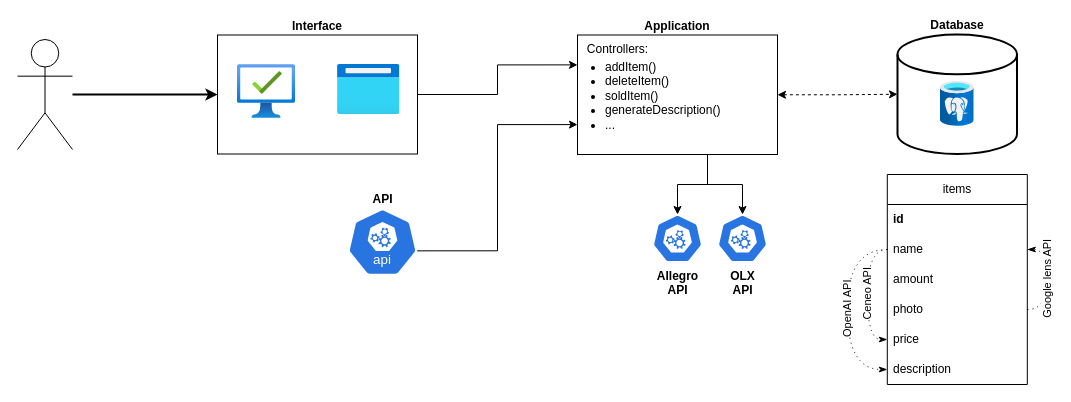
This 1071x402 diagram has some shape labels left out. Here are the shapes that lost their labels. From the top down, the centre of each, then its label:
At [44,94]: "User".
At [266,91]: "Desktop app".
At [368,89]: "Web Browser".
At [957,103]: "PostgreSQL".
